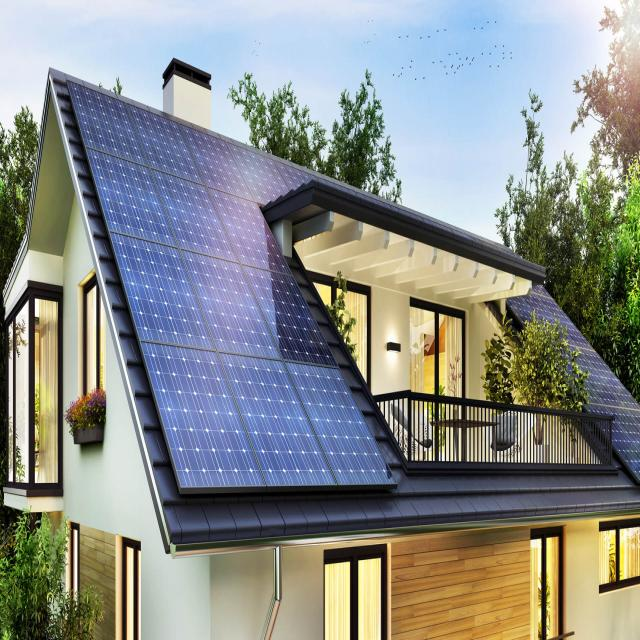clean-solar-panel: (69, 82, 390, 491)
